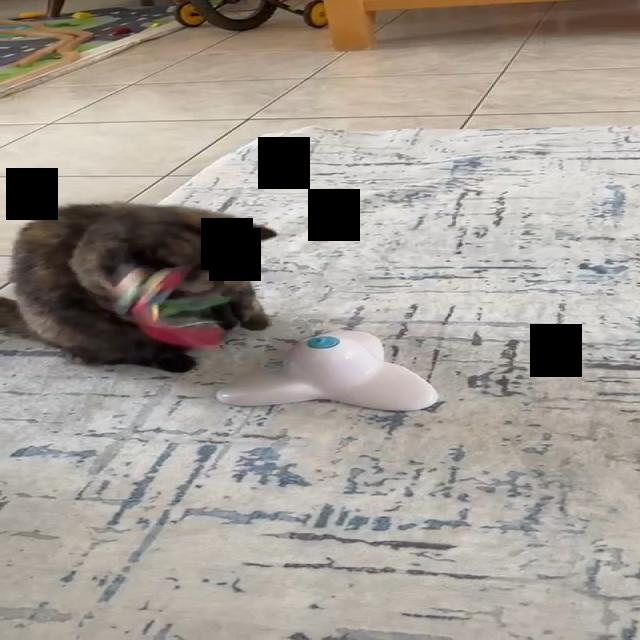authorized: (3, 200, 276, 374)
